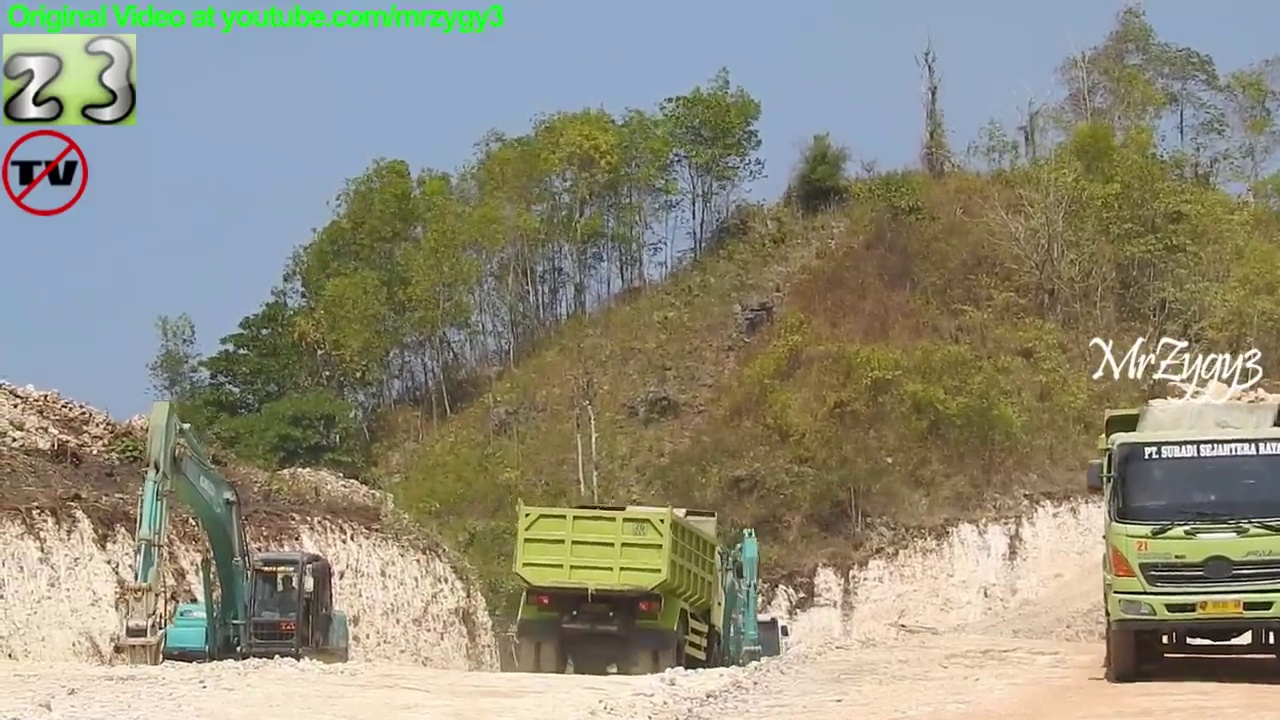excavator: (109, 396, 355, 706), (679, 520, 793, 682)
truck: (1079, 390, 1280, 693), (505, 492, 747, 683)
